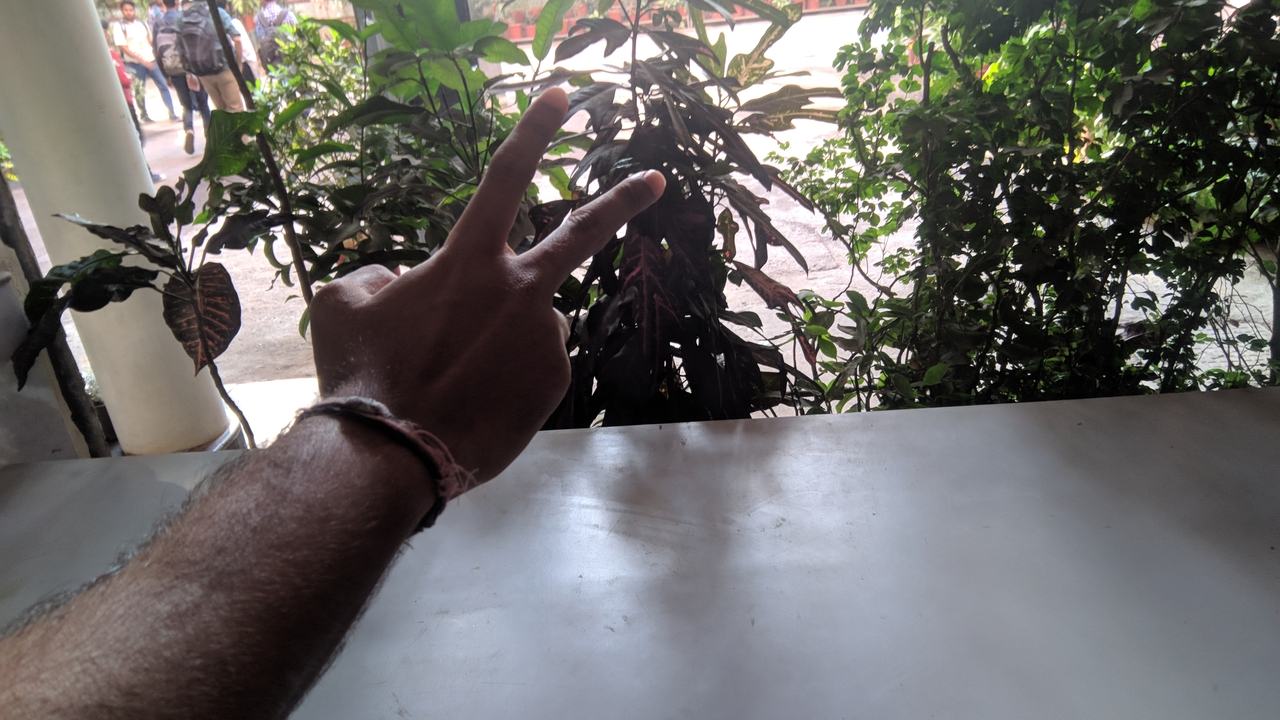fingertip: (522, 74, 572, 124), (620, 160, 668, 209)
